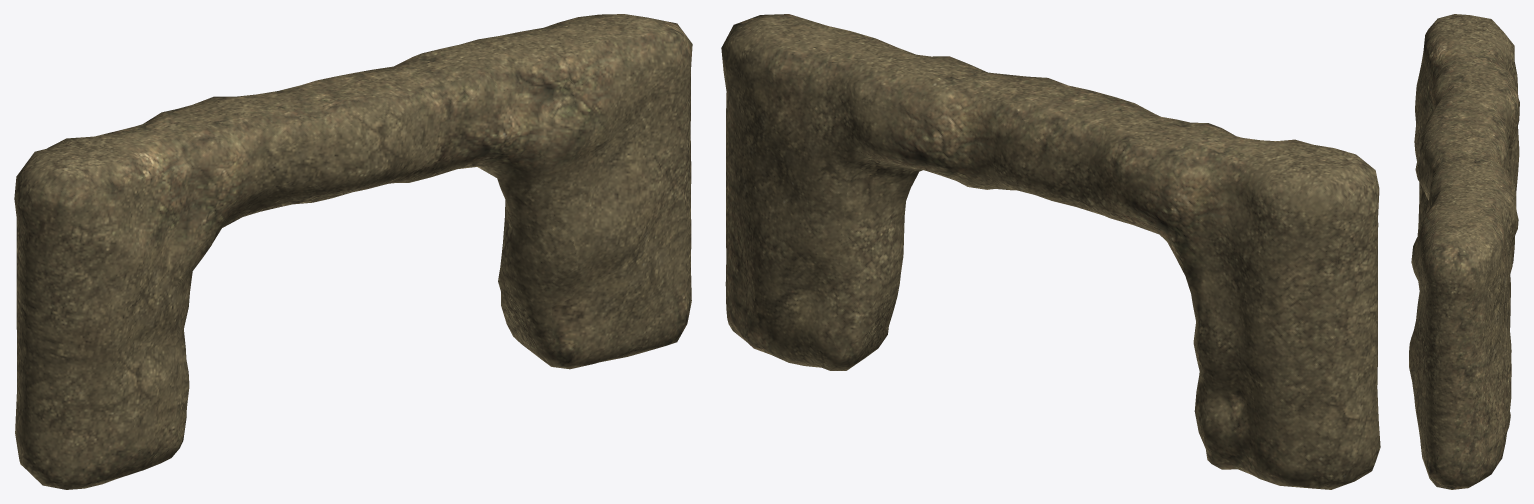
Rendered from CaveWalls2_A.obj.
The picture shows the model from 3 angles, left to right: view 1: azimuth 30°, elevation 25°; view 2: azimuth 150°, elevation 25°; view 3: azimuth 270°, elevation 25°; orthographic projection. The views are drawn at different scales.
Visible parts, largest first — view 1: CaveWalls2A; view 2: CaveWalls2A; view 3: CaveWalls2A.
Boxes of the visible parts, left/top/right/bottom form: CaveWalls2A: left=14, top=14, right=692, bottom=489; CaveWalls2A: left=721, top=14, right=1380, bottom=489; CaveWalls2A: left=1409, top=14, right=1519, bottom=489.
Bounding box in the file's own units: 71.55 × 33.42 × 13.5.
1 material, 1 textured.
